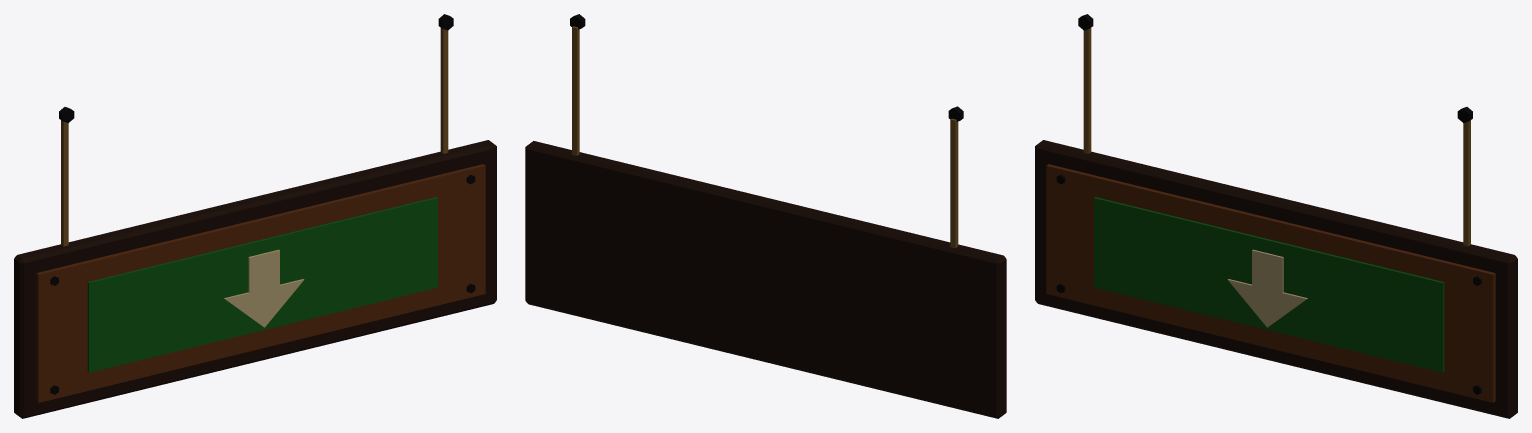
Rendered from SM_Hide_Sign_Plank_Green.glb.
3 views of the same model, side by side, from view 1: azimuth 30°, elevation 25°; view 2: azimuth 150°, elevation 25°; view 3: azimuth 330°, elevation 25° (orthographic).
Parts seen in each view (by area): view 1: SM_Hide_Sign_Plank_Green; view 2: SM_Hide_Sign_Plank_Green; view 3: SM_Hide_Sign_Plank_Green.
Boxes of the visible parts, box(x1,y1,x2,y2) form: SM_Hide_Sign_Plank_Green: box(14, 14, 496, 418); SM_Hide_Sign_Plank_Green: box(525, 14, 1006, 418); SM_Hide_Sign_Plank_Green: box(1035, 14, 1517, 418).
Size of the model in its own units: 1.56 by 0.932 by 0.077.
